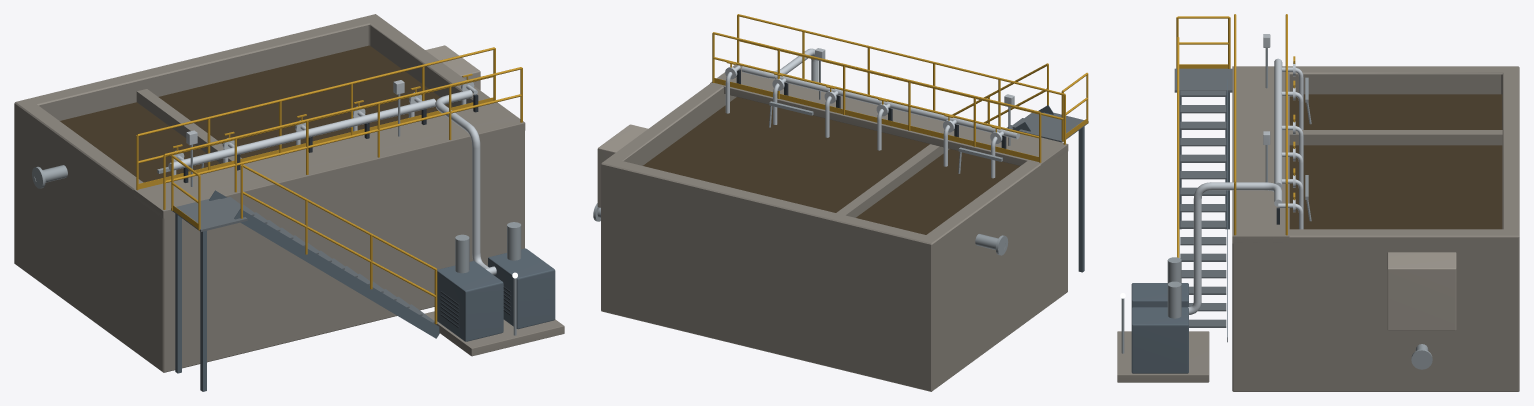
The model's file is bio_reactor.glb.
3 renders of one model, left to right at view 1: azimuth 30°, elevation 25°; view 2: azimuth 150°, elevation 25°; view 3: azimuth 270°, elevation 25°, orthographic. The views are drawn at different scales.
Parts seen in each view (by area): view 1: BODY_basin, WATER_liquor, BODY_blowers, BODY_stair, BODY_rails, air_main, stair_rails, BODY_weirbox, probes, inlet; view 2: BODY_basin, WATER_liquor, BODY_rails, air_main, BODY_stair, stair_rails, probes, BODY_weirbox, inlet; view 3: BODY_basin, WATER_liquor, BODY_stair, BODY_blowers, BODY_weirbox, air_main, stair_rails, BODY_rails, probes, outlet.
Part boxes in pixels (x1,y1,x2,y2): BODY_basin: [14, 14, 564, 372]; WATER_liquor: [60, 45, 453, 182]; BODY_blowers: [437, 222, 555, 341]; BODY_stair: [171, 190, 439, 391]; BODY_rails: [136, 47, 522, 209]; air_main: [168, 73, 488, 268]; stair_rails: [171, 155, 437, 324]; BODY_weirbox: [425, 45, 480, 90]; probes: [157, 80, 409, 186]; inlet: [32, 165, 67, 188]; BODY_basin: [601, 64, 1068, 391]; WATER_liquor: [643, 97, 1019, 234]; BODY_rails: [712, 14, 1065, 162]; air_main: [725, 48, 1019, 178]; BODY_stair: [1006, 105, 1088, 272]; stair_rails: [952, 63, 1088, 141]; probes: [769, 48, 1014, 173]; BODY_weirbox: [597, 124, 647, 207]; inlet: [975, 234, 1008, 255]; BODY_basin: [1117, 66, 1519, 391]; WATER_liquor: [1289, 94, 1502, 229]; BODY_stair: [1174, 68, 1232, 342]; BODY_blowers: [1131, 257, 1188, 373]; BODY_weirbox: [1387, 252, 1456, 330]; air_main: [1188, 56, 1303, 314]; stair_rails: [1176, 16, 1230, 257]; BODY_rails: [1234, 14, 1287, 235]; probes: [1263, 34, 1311, 221]; outlet: [1411, 344, 1432, 369].
Size of the model in its own units: 8.55 by 4.11 by 7.
